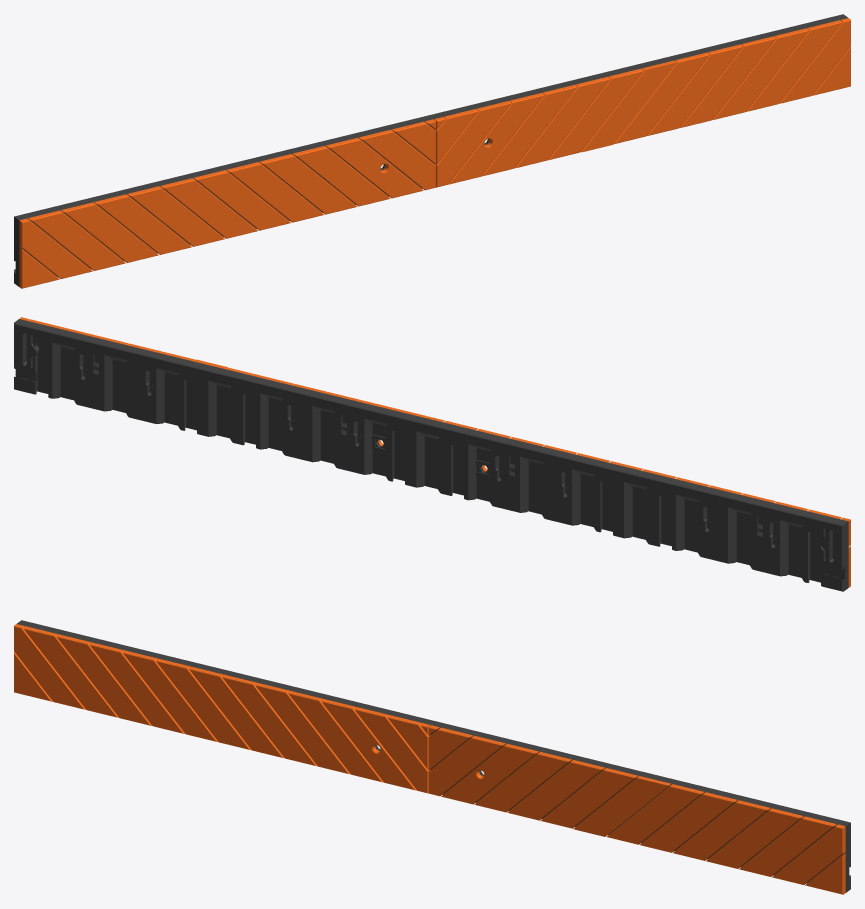
File: Faceplate_Chevron_4W-05H.lib.glb
3 views of the same model, one above another, from view 1: azimuth 30°, elevation 25°; view 2: azimuth 150°, elevation 25°; view 3: azimuth 330°, elevation 25° (orthographic).
Parts seen in each view (by area): view 1: Faceplate_Chevron_4W-05H; view 2: Faceplate_Chevron_4W-05H; view 3: Faceplate_Chevron_4W-05H.
Boxes of the visible parts, x1,y1,x2,y2 form: Faceplate_Chevron_4W-05H: (14,14,850,288); Faceplate_Chevron_4W-05H: (14,317,850,591); Faceplate_Chevron_4W-05H: (14,620,850,894).
Bounding box in the file's own units: 351 × 26.99 × 6.21.
